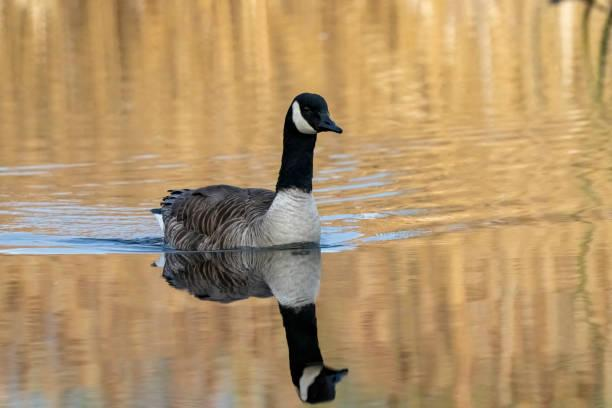Canadian-Goose: (151, 90, 347, 249)
